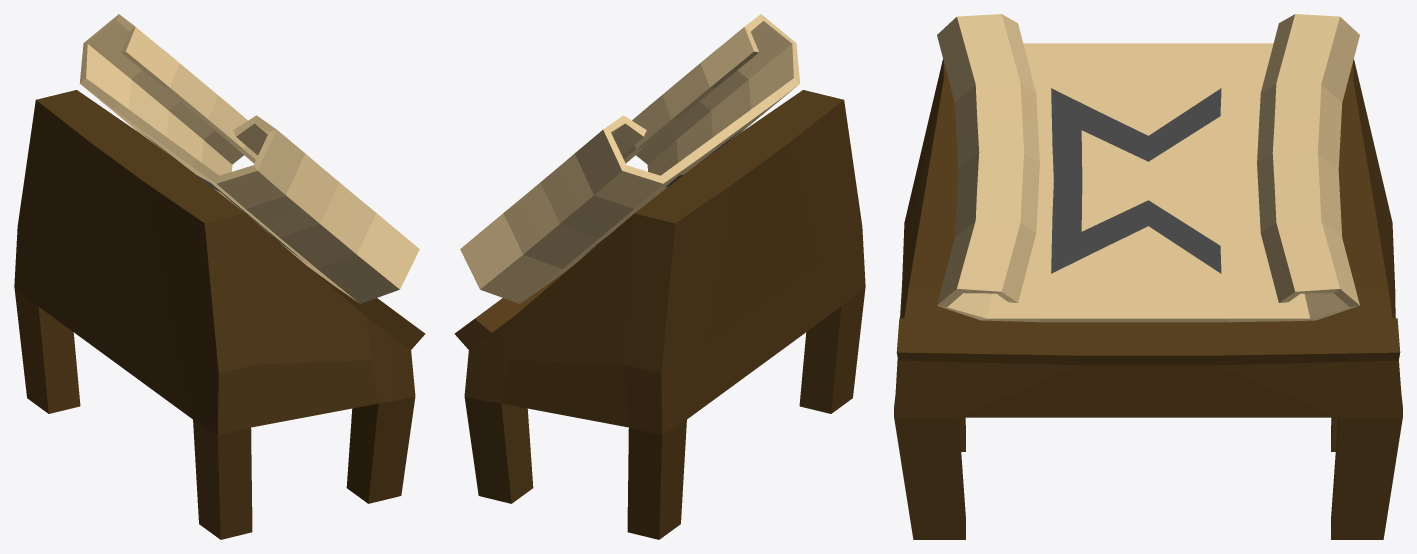
File: scrollStand.fbx
3 views of the same model, side by side, from view 1: azimuth 30°, elevation 25°; view 2: azimuth 150°, elevation 25°; view 3: azimuth 270°, elevation 25° (orthographic). The views are drawn at different scales.
Visible parts, largest first — view 1: Plane.001; view 2: Plane.001; view 3: Plane.001.
Boxes of the visible parts, x1,y1,x2,y2 form: Plane.001: (14,14,425,539); Plane.001: (454,14,865,539); Plane.001: (894,14,1402,539).
Bounding box in the file's own units: 232 × 372 × 372.
